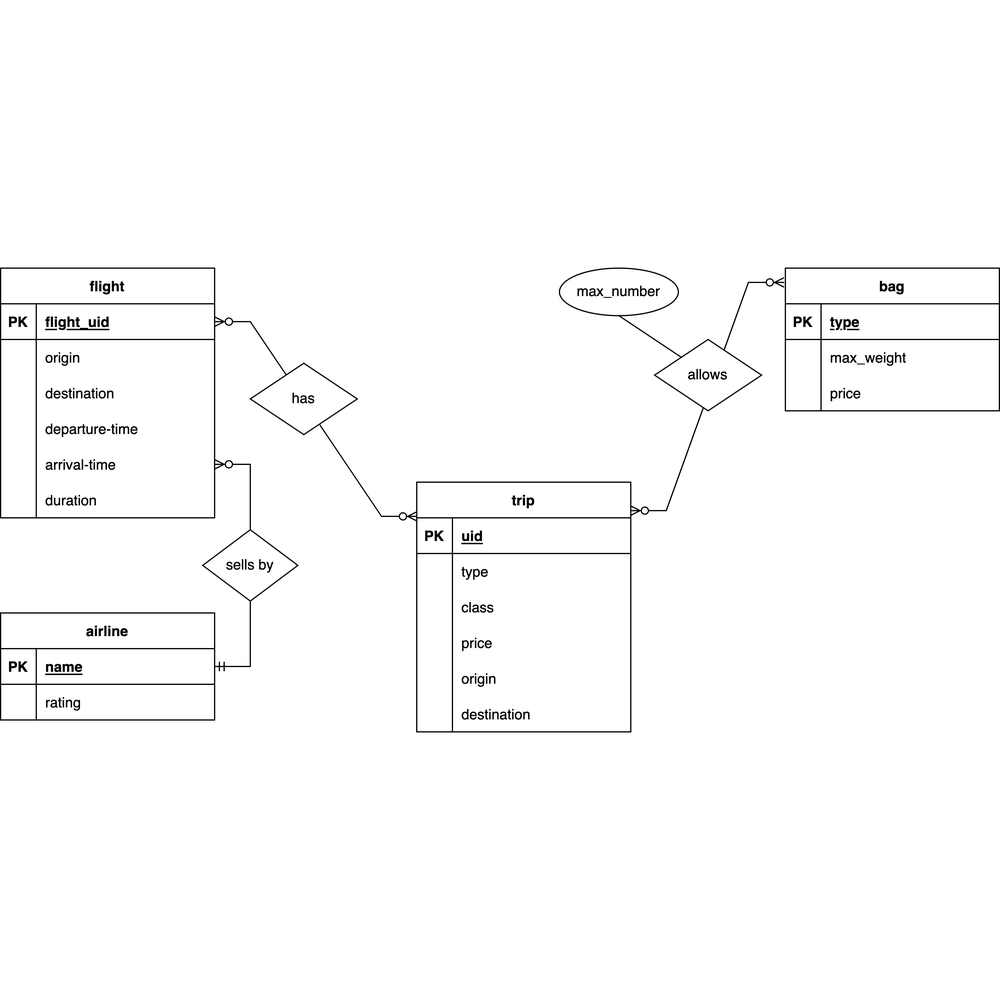attribute: (647, 342, 767, 411), (198, 527, 304, 600), (552, 266, 678, 315)
entity: (412, 473, 638, 736), (1, 265, 219, 521), (776, 256, 1000, 416), (1, 608, 222, 731)
relationship: (250, 359, 363, 433)
